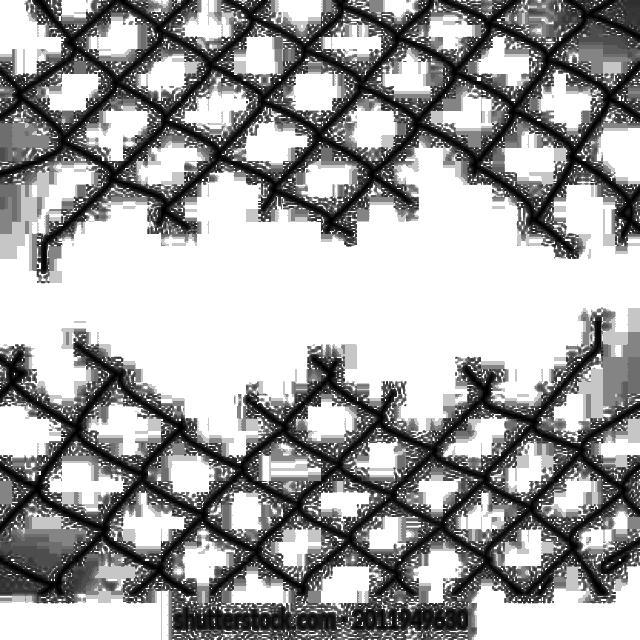fences: (6, 157, 640, 419)
